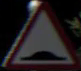Speed Breaker ahead: (9, 10, 66, 63)
